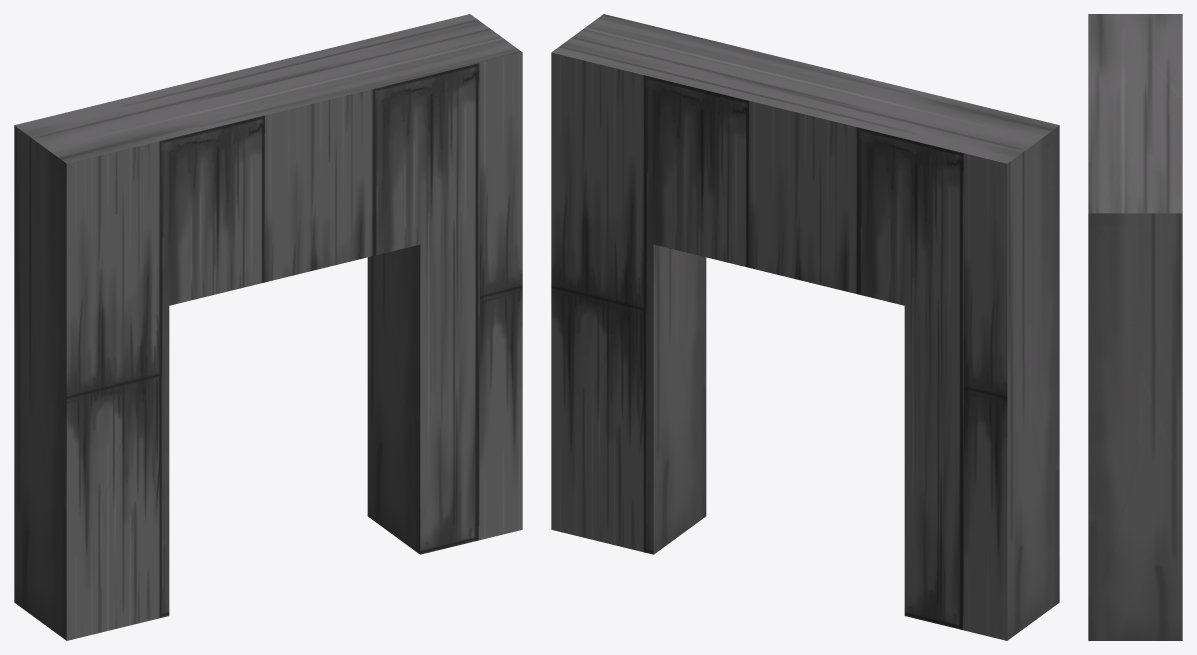
Rendered from Wall_SingleDoor.fbx.
The picture shows the model from 3 angles, left to right: view 1: azimuth 30°, elevation 25°; view 2: azimuth 150°, elevation 25°; view 3: azimuth 270°, elevation 25°; orthographic projection. The views are drawn at different scales.
Parts seen in each view (by area): view 1: Wall; view 2: Wall; view 3: Wall.
Part boxes in pixels (box(x1,y1,x2,y2)): Wall: box(14, 14, 522, 640); Wall: box(551, 14, 1059, 640); Wall: box(1088, 14, 1182, 640).
Bounding box in the file's own units: 5 × 5 × 1.
